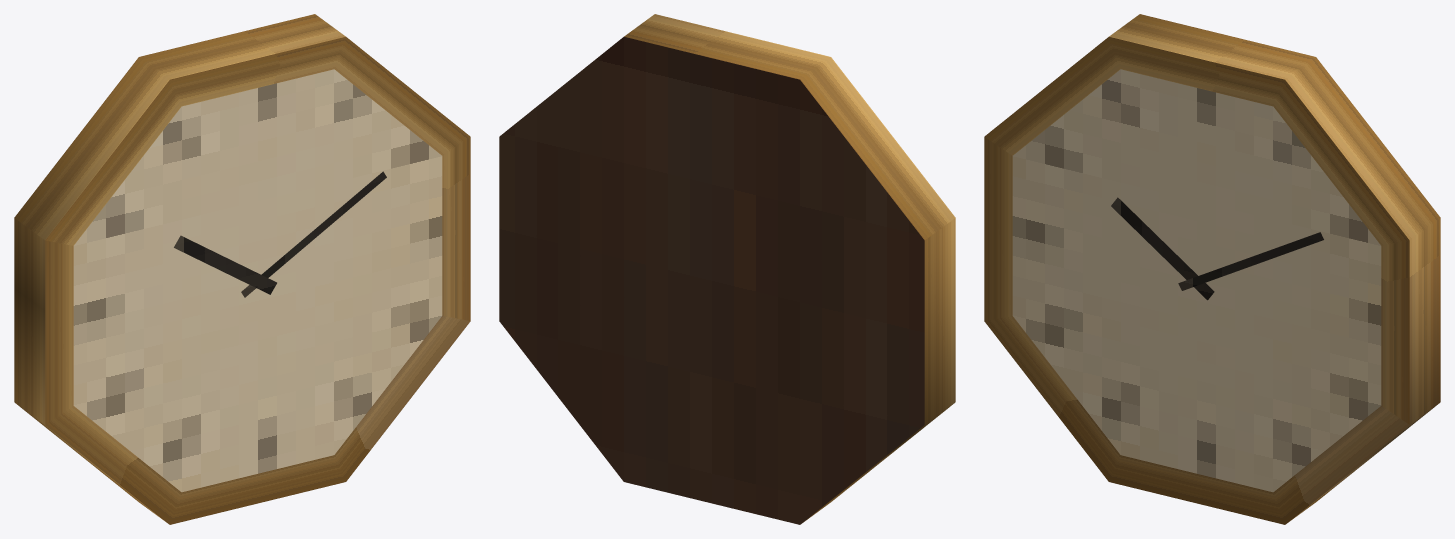
The model's file is brass-wall-clock.glb.
3 views of the same model, side by side, from view 1: azimuth 30°, elevation 25°; view 2: azimuth 150°, elevation 25°; view 3: azimuth 330°, elevation 25° (orthographic).
Parts seen in each view (by area): view 1: brass-wall-clock; view 2: brass-wall-clock; view 3: brass-wall-clock.
Boxes of the visible parts, x1,y1,x2,y2 form: brass-wall-clock: (14, 14, 470, 524); brass-wall-clock: (499, 14, 955, 524); brass-wall-clock: (984, 14, 1440, 524).
Size of the model in its own units: 0.2772 by 0.2772 by 0.036.
1 material, 1 textured.
